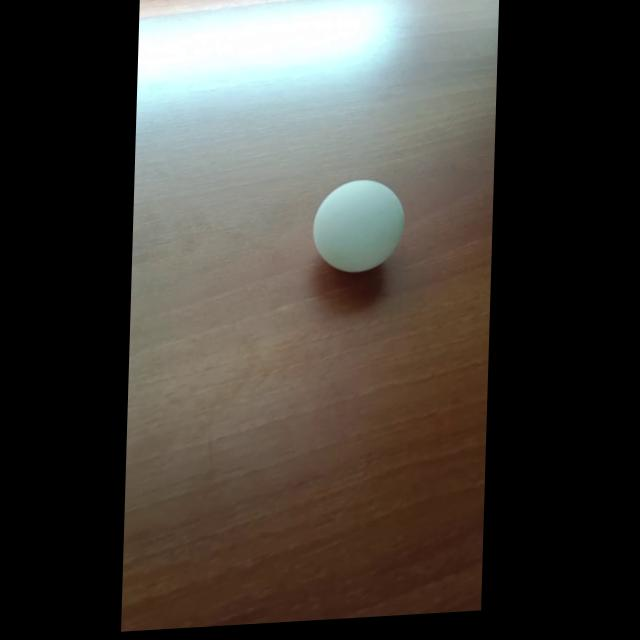white ball: (311, 177, 406, 276)
